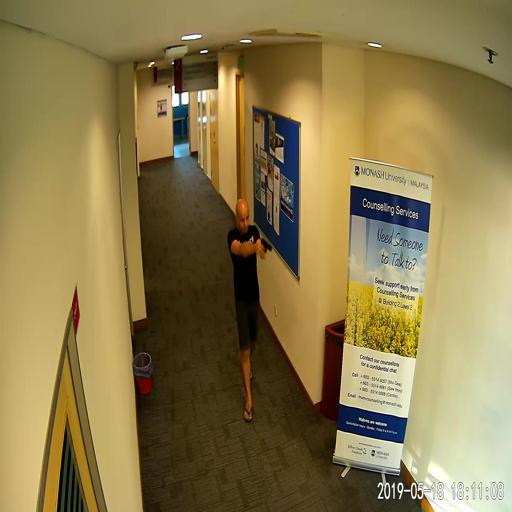Handgun: (259, 236, 271, 258)
